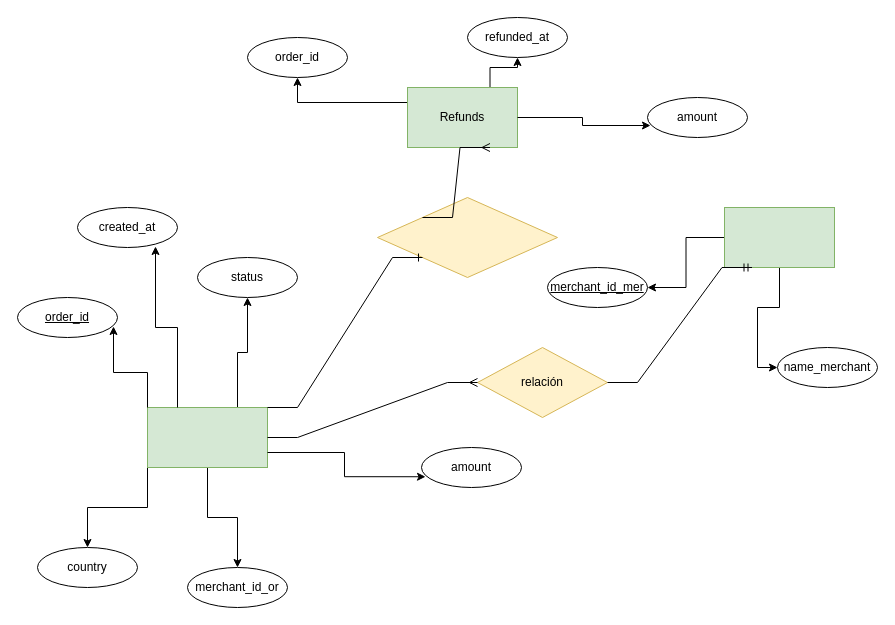
Some shapes in this 895 by 625 pixel diagram are drawn without their labels. The centre of each missing label's shape, as x and y in pixels:
"Merchants" goes at (x=779, y=237).
"Orders" goes at (x=207, y=437).
"puede tener" goes at (x=467, y=237).
